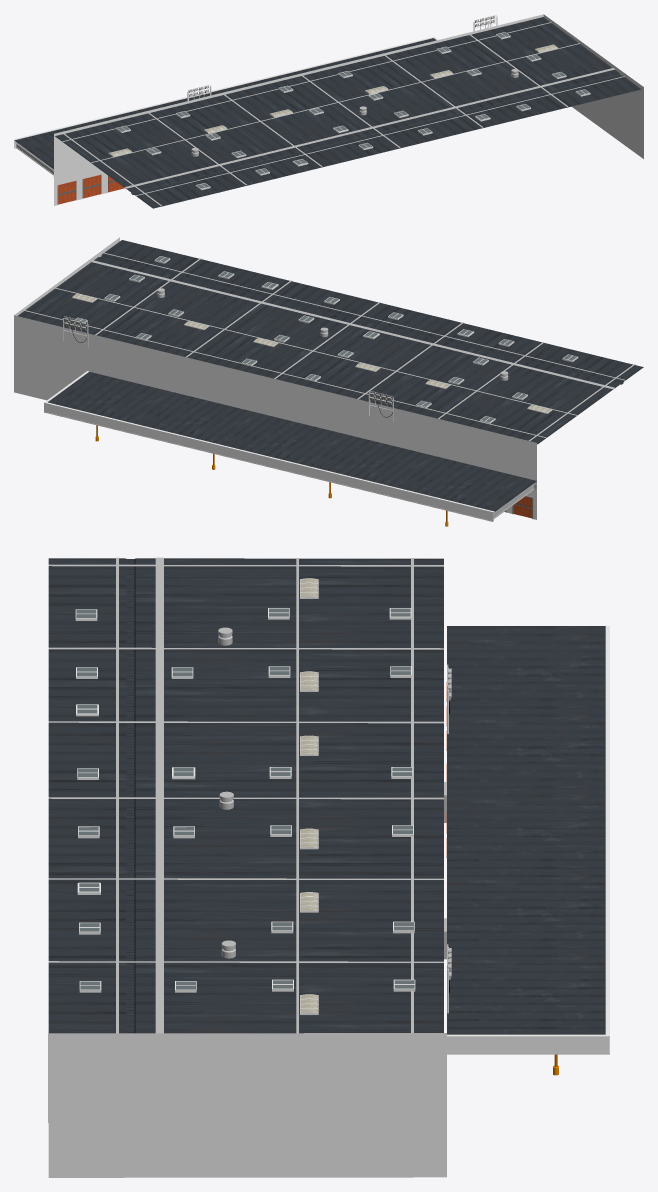
File: SM_TNTBuilding_Part02.fbx
3 views of the same model, one above another, from view 1: azimuth 30°, elevation 25°; view 2: azimuth 150°, elevation 25°; view 3: azimuth 270°, elevation 25° (orthographic). The views are drawn at different scales.
Parts seen in each view (by area): view 1: SM_TNTBuilding_Part02_LOD0; view 2: SM_TNTBuilding_Part02_LOD0; view 3: SM_TNTBuilding_Part02_LOD0.
Boxes of the visible parts, left/top/right/bottom form: SM_TNTBuilding_Part02_LOD0: left=14, top=14, right=643, bottom=208; SM_TNTBuilding_Part02_LOD0: left=14, top=237, right=643, bottom=526; SM_TNTBuilding_Part02_LOD0: left=48, top=557, right=609, bottom=1177.
Size of what is drawn, in the model's own units: 12318 by 1989 by 6099.
